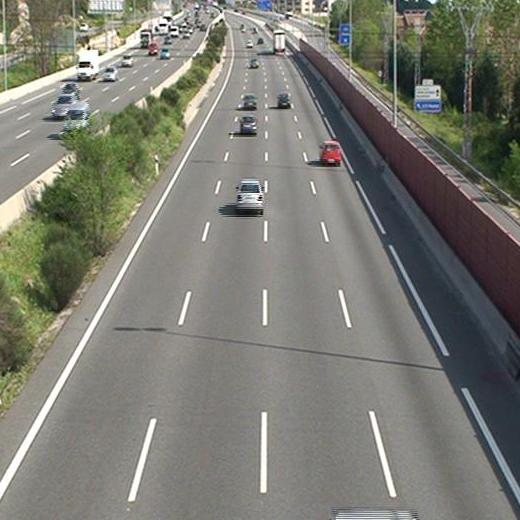car: (233, 179, 265, 212), (319, 141, 342, 165), (239, 117, 257, 133), (241, 95, 256, 110), (278, 93, 289, 108), (248, 56, 261, 68)
truck: (273, 32, 286, 55)
